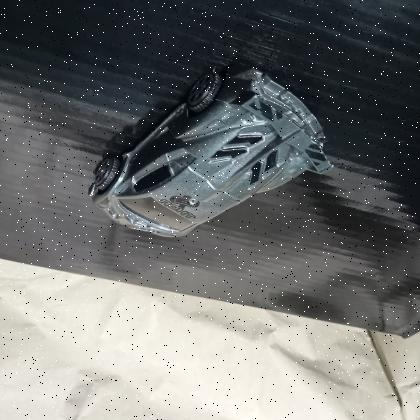Car: (86, 54, 340, 242)
